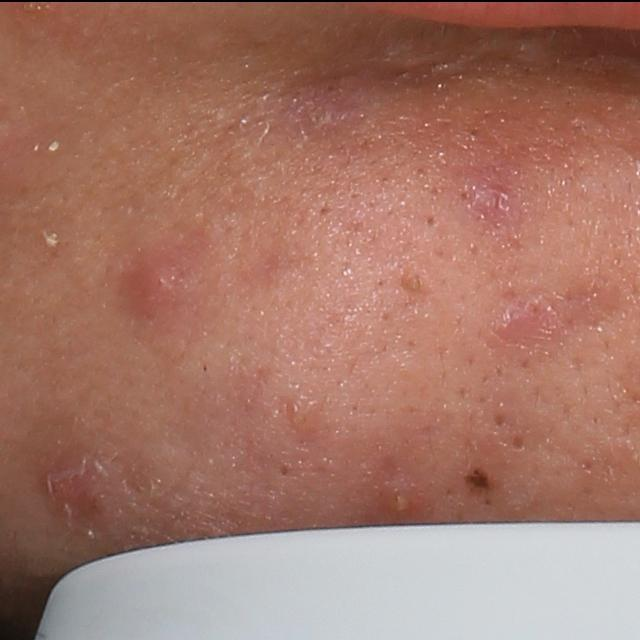comedo: (405, 273, 423, 292), (276, 464, 292, 481)
papule: (61, 462, 112, 527), (130, 255, 179, 315), (497, 305, 531, 337)
pustule: (381, 488, 417, 515), (42, 230, 59, 254)
